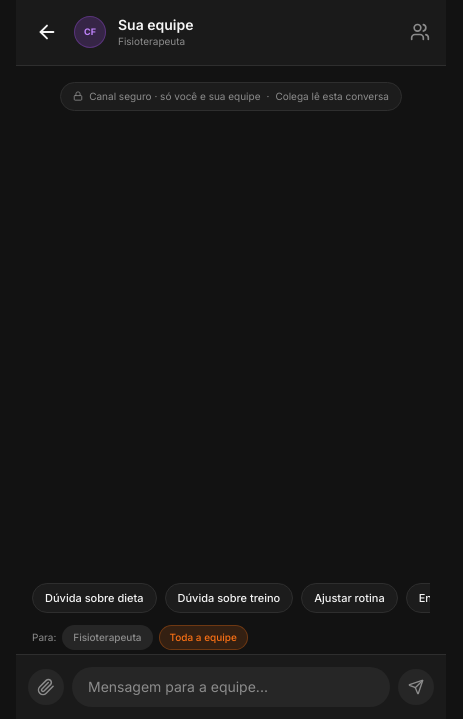
it: SENTIDO 2 — quem cuida de mim: a desativada NÃO é oferecida › o seletor de @ lista só quem ficou
Type "@" into the field with placeholder "Mensagem para a equipe...". click: {"x": 231, "y": 687}
box: x1=72 y1=667 x2=390 y2=707
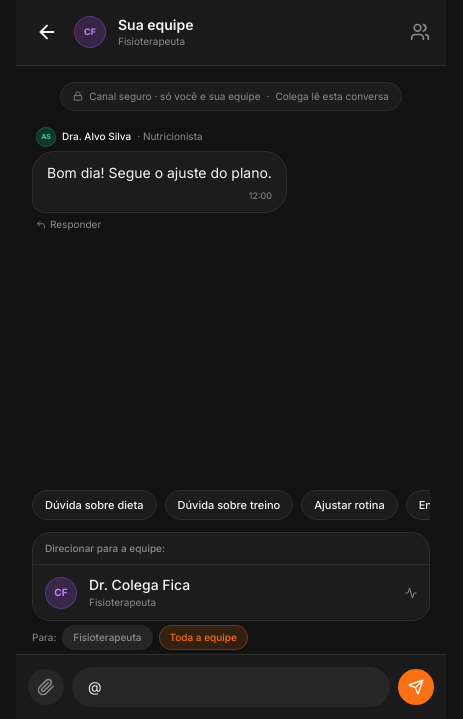
expect the text "Dr. Colega Fica" is shown: met, box x1=89 y1=576 x2=190 y2=593
